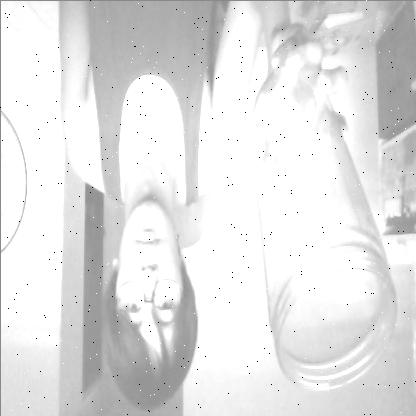Plastic Bottle: (243, 62, 399, 389)
